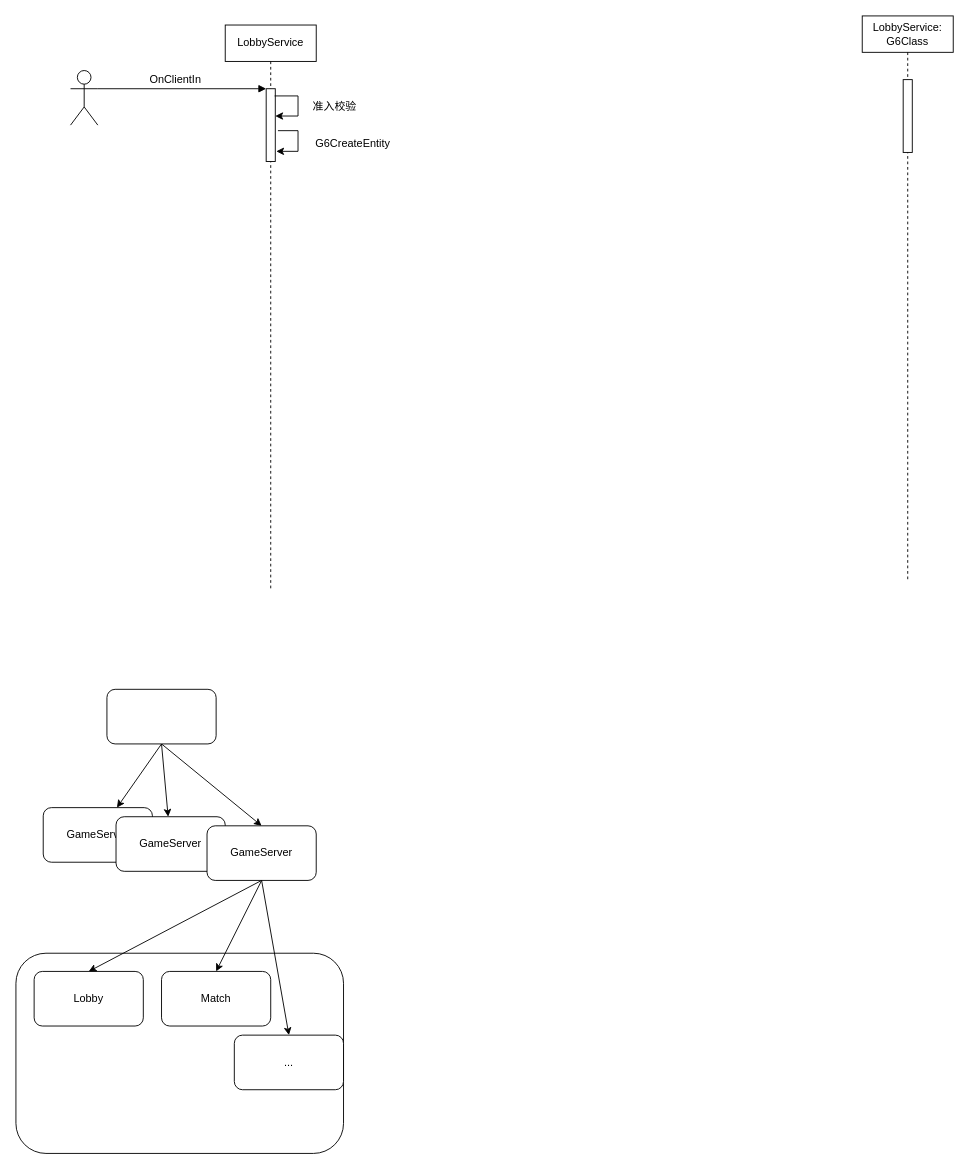
Image size: 969x1169. Some labels were removed from this diagram. Each missing label, with the centre of its shape:
Client: pixel 84 97
GameManager: pixel 161 716
